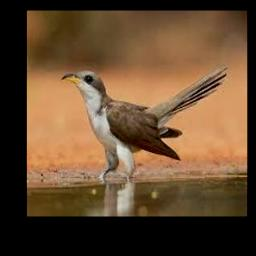Cuckoo: (61, 63, 228, 177)
